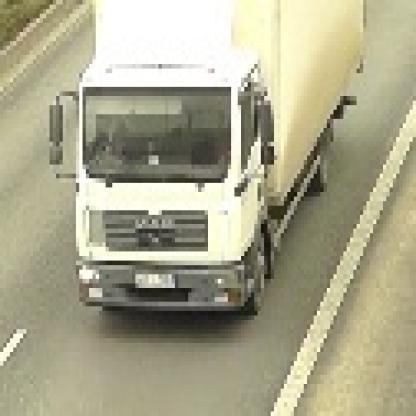truck: (47, 1, 364, 326)
